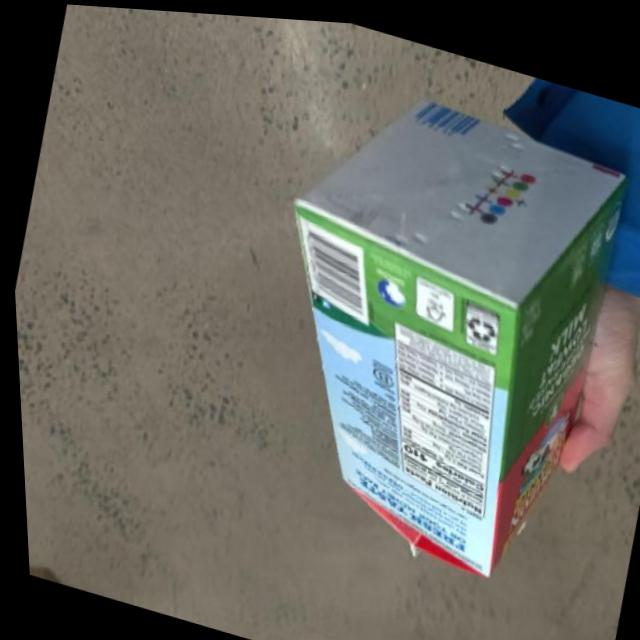Milk: (212, 38, 640, 607)
